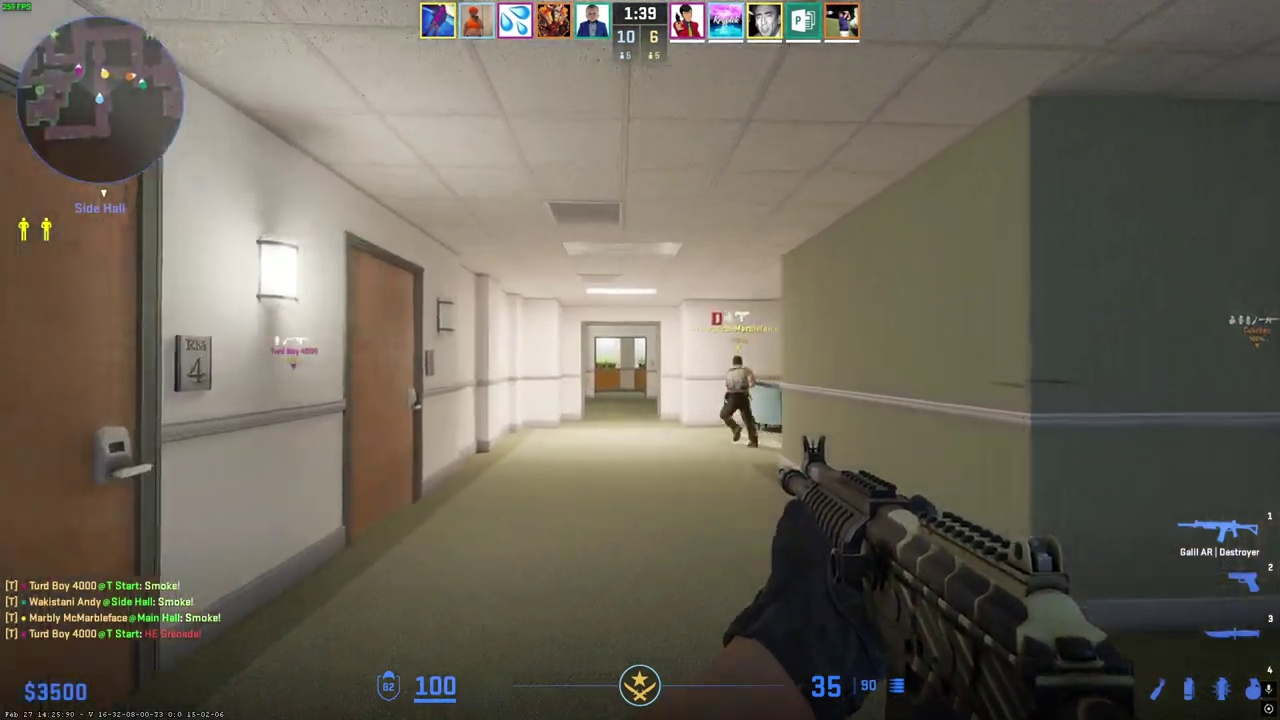Terrorist: (720, 355, 758, 446)
